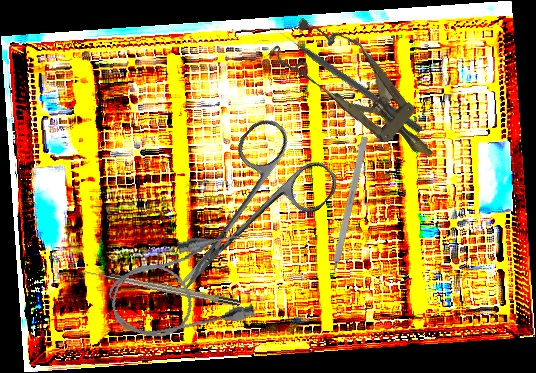Cannula: (101, 225, 264, 351)
Hook Surgical: (326, 136, 369, 291), (83, 267, 241, 308)
Iris Scissors: (140, 111, 344, 321)
Pusher: (275, 26, 425, 134)
Speculum: (266, 2, 455, 182)
